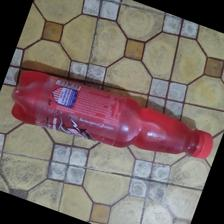Sting: (9, 72, 212, 158)
